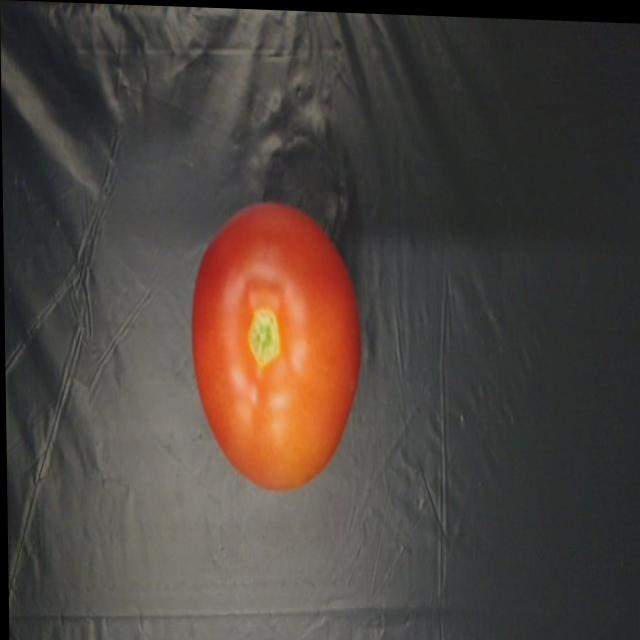sari: (182, 165, 380, 491)
